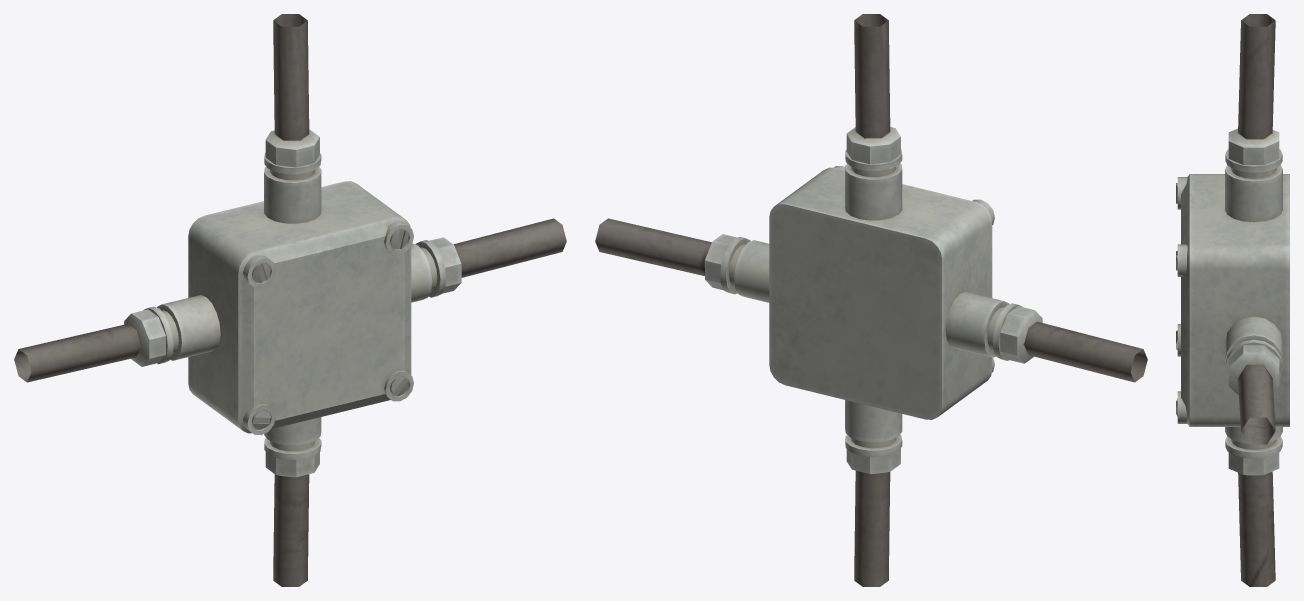
Rendered from cable_box_4way.gltf.
3 views of the same model, side by side, from view 1: azimuth 30°, elevation 25°; view 2: azimuth 150°, elevation 25°; view 3: azimuth 270°, elevation 25° (orthographic).
Visible parts, largest first — view 1: cable_box_4way; view 2: cable_box_4way; view 3: cable_box_4way.
Part boxes in pixels (x1=…): cable_box_4way: x1=14, y1=14, x2=566, y2=586; cable_box_4way: x1=595, y1=14, x2=1147, y2=586; cable_box_4way: x1=1176, y1=14, x2=1289, y2=586.
Size of the model in its own units: 0.2 by 0.2 by 0.0369.
1 material, 1 textured.
